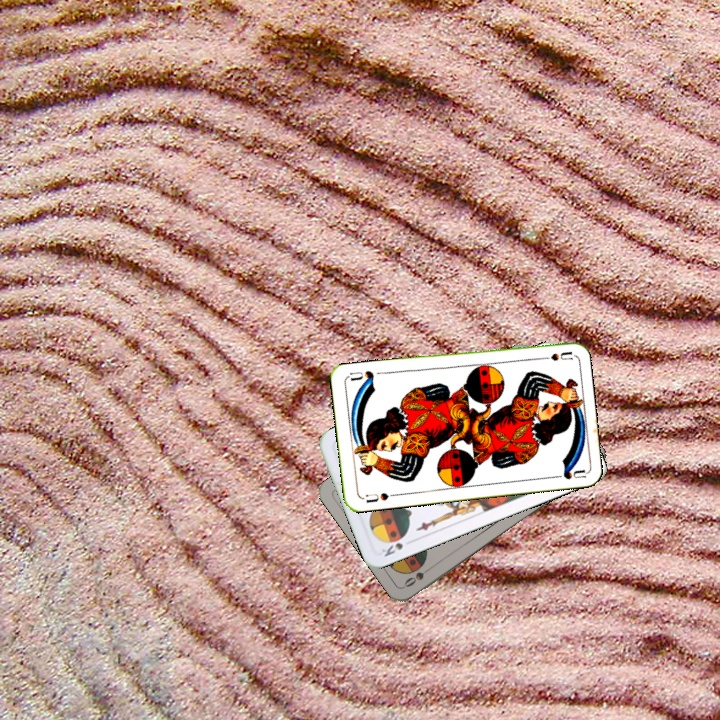SK: (377, 538, 406, 559)
SO: (400, 562, 436, 590)
SU: (358, 489, 399, 505), (533, 348, 574, 363)
